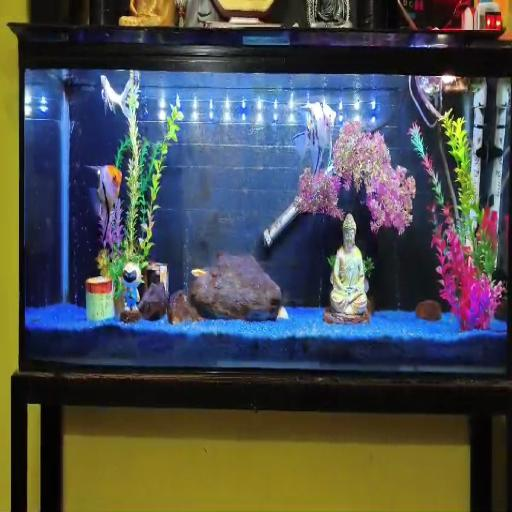Fish: (293, 102, 336, 174), (87, 165, 121, 243), (101, 75, 131, 117), (192, 269, 207, 277)
